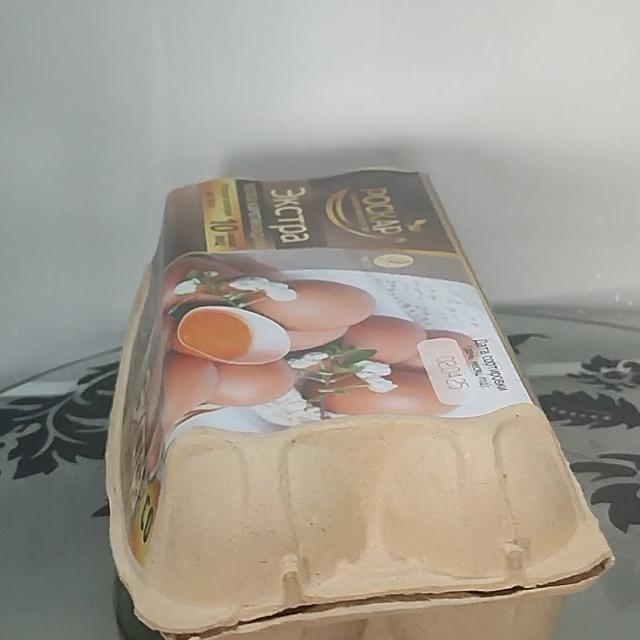egg: (80, 150, 627, 640)
